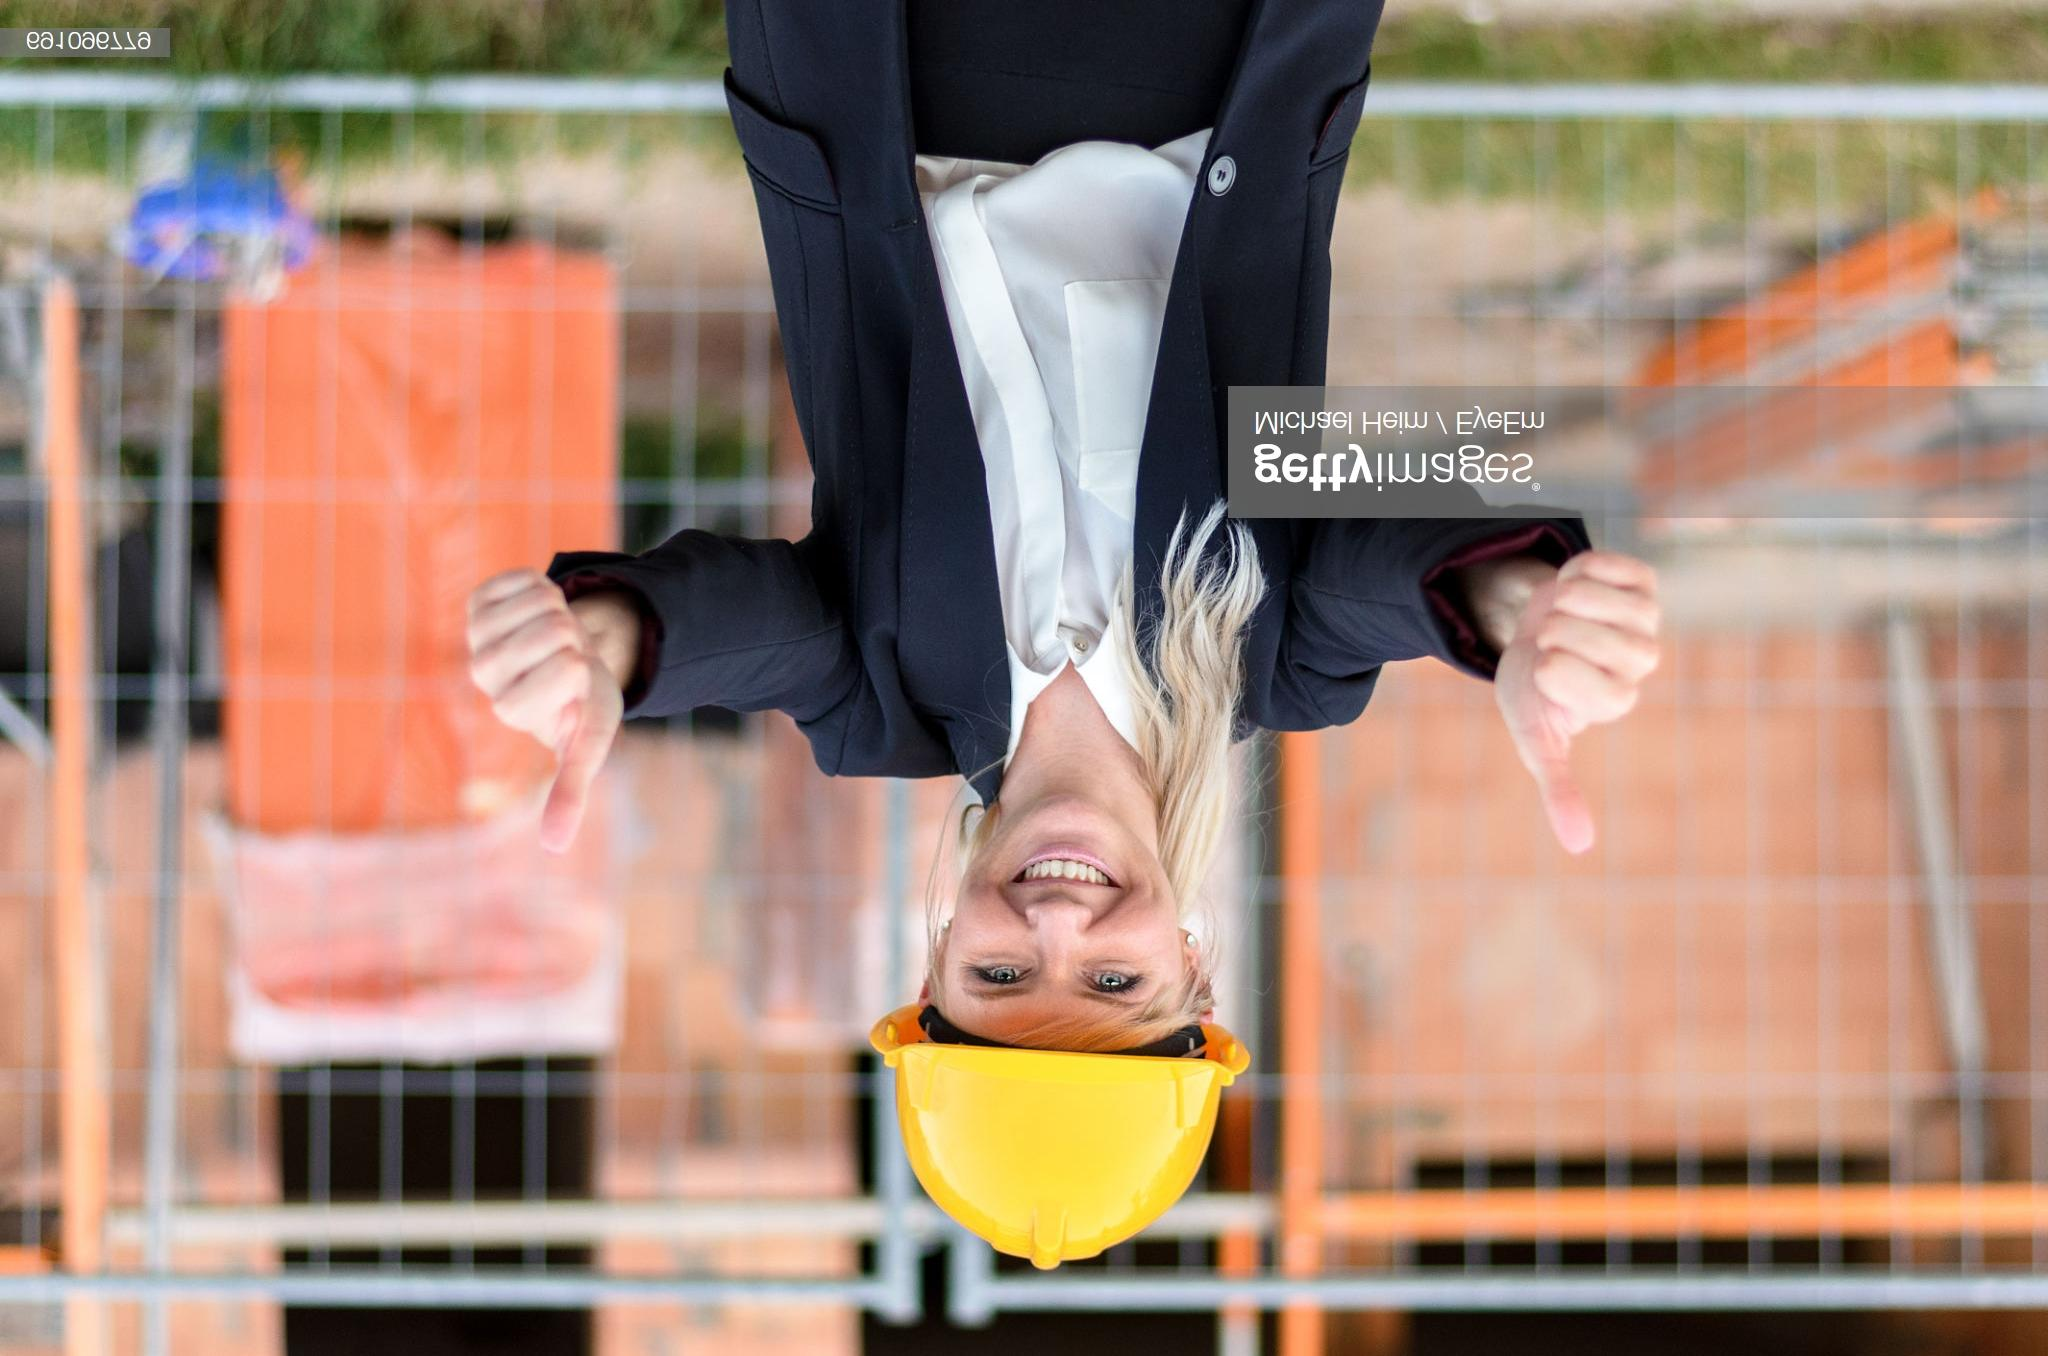thumbsdown: (1519, 551, 1662, 854), (464, 572, 597, 855)
